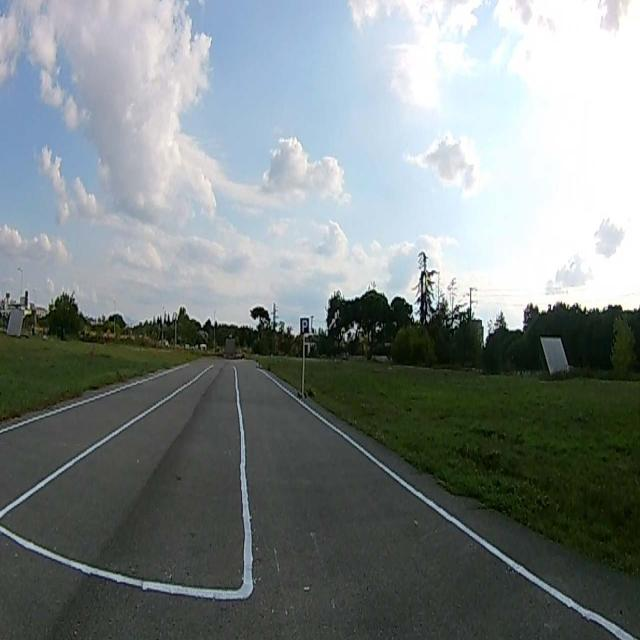park: (300, 318, 308, 334)
